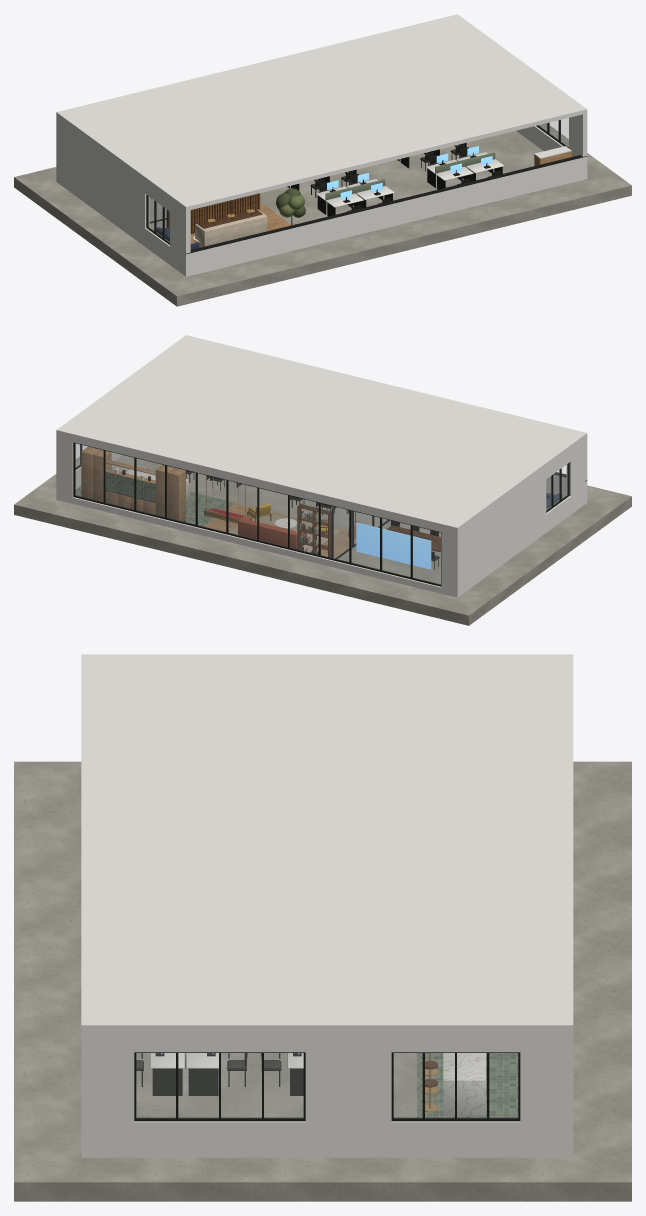
The model's file is modern-office.glb.
3 views of the same model, one above another, from view 1: azimuth 30°, elevation 25°; view 2: azimuth 150°, elevation 25°; view 3: azimuth 270°, elevation 25° (orthographic). The views are drawn at different scales.
Parts seen in each view (by area): view 1: Up_MO_Ceiling, MO_Walls, MO_Base, MO_Floors, MO_Bench_0, MO_Bench_1, MO_Reception, MO_SlatWall, MO_Glass, MO_Plant_R, MO_Frames, MO_Storage; view 2: Up_MO_Ceiling, MO_Glass, MO_Base, MO_Walls, MO_Floors, MO_Pantry, MO_Frames, MO_ConfScreen, MO_Library, MO_LoungeSofa, MO_MeetGlass, MO_LoungeRug (+2 smaller); view 3: Up_MO_Ceiling, MO_Base, MO_Walls, MO_Glass, MO_Floors, MO_Frames, MO_Bench_1, MO_PantryIsland.
Boxes of the visible parts, x1=… form: Up_MO_Ceiling: x1=56, y1=14, x2=587, y2=210; MO_Walls: x1=56, y1=113, x2=587, y2=276; MO_Base: x1=14, y1=123, x2=631, y2=306; MO_Floors: x1=149, y1=131, x2=543, y2=243; MO_Bench_0: x1=316, y1=173, x2=394, y2=216; MO_Bench_1: x1=426, y1=146, x2=503, y2=189; MO_Reception: x1=195, y1=209, x2=267, y2=247; MO_SlatWall: x1=166, y1=193, x2=260, y2=234; MO_Glass: x1=148, y1=118, x2=568, y2=242; MO_Plant_R: x1=276, y1=188, x2=305, y2=226; MO_Frames: x1=146, y1=120, x2=568, y2=244; MO_Storage: x1=534, y1=146, x2=571, y2=165; Up_MO_Ceiling: x1=56, y1=335, x2=587, y2=531; MO_Glass: x1=75, y1=443, x2=567, y2=584; MO_Base: x1=14, y1=456, x2=631, y2=625; MO_Walls: x1=56, y1=434, x2=587, y2=597; MO_Floors: x1=75, y1=455, x2=440, y2=584; MO_Pantry: x1=81, y1=446, x2=185, y2=521; MO_Frames: x1=73, y1=442, x2=569, y2=586; MO_ConfScreen: x1=356, y1=522, x2=431, y2=569; MO_Library: x1=297, y1=503, x2=331, y2=557; MO_LoungeSofa: x1=238, y1=515, x2=306, y2=549; MO_MeetGlass: x1=334, y1=508, x2=387, y2=558; MO_LoungeRug: x1=229, y1=513, x2=340, y2=552; Up_MO_Ceiling: x1=81, y1=654, x2=573, y2=1032; MO_Base: x1=14, y1=761, x2=631, y2=1201; MO_Walls: x1=81, y1=1033, x2=573, y2=1157; MO_Glass: x1=136, y1=1053, x2=517, y2=1118; MO_Floors: x1=136, y1=1053, x2=518, y2=1117; MO_Frames: x1=134, y1=1052, x2=520, y2=1121; MO_Bench_1: x1=150, y1=1053, x2=218, y2=1095; MO_PantryIsland: x1=443, y1=1053, x2=485, y2=1115.
Bounding box in the file's own units: 23.2 × 3.9 × 14.4.
34 materials, 12 textured.
